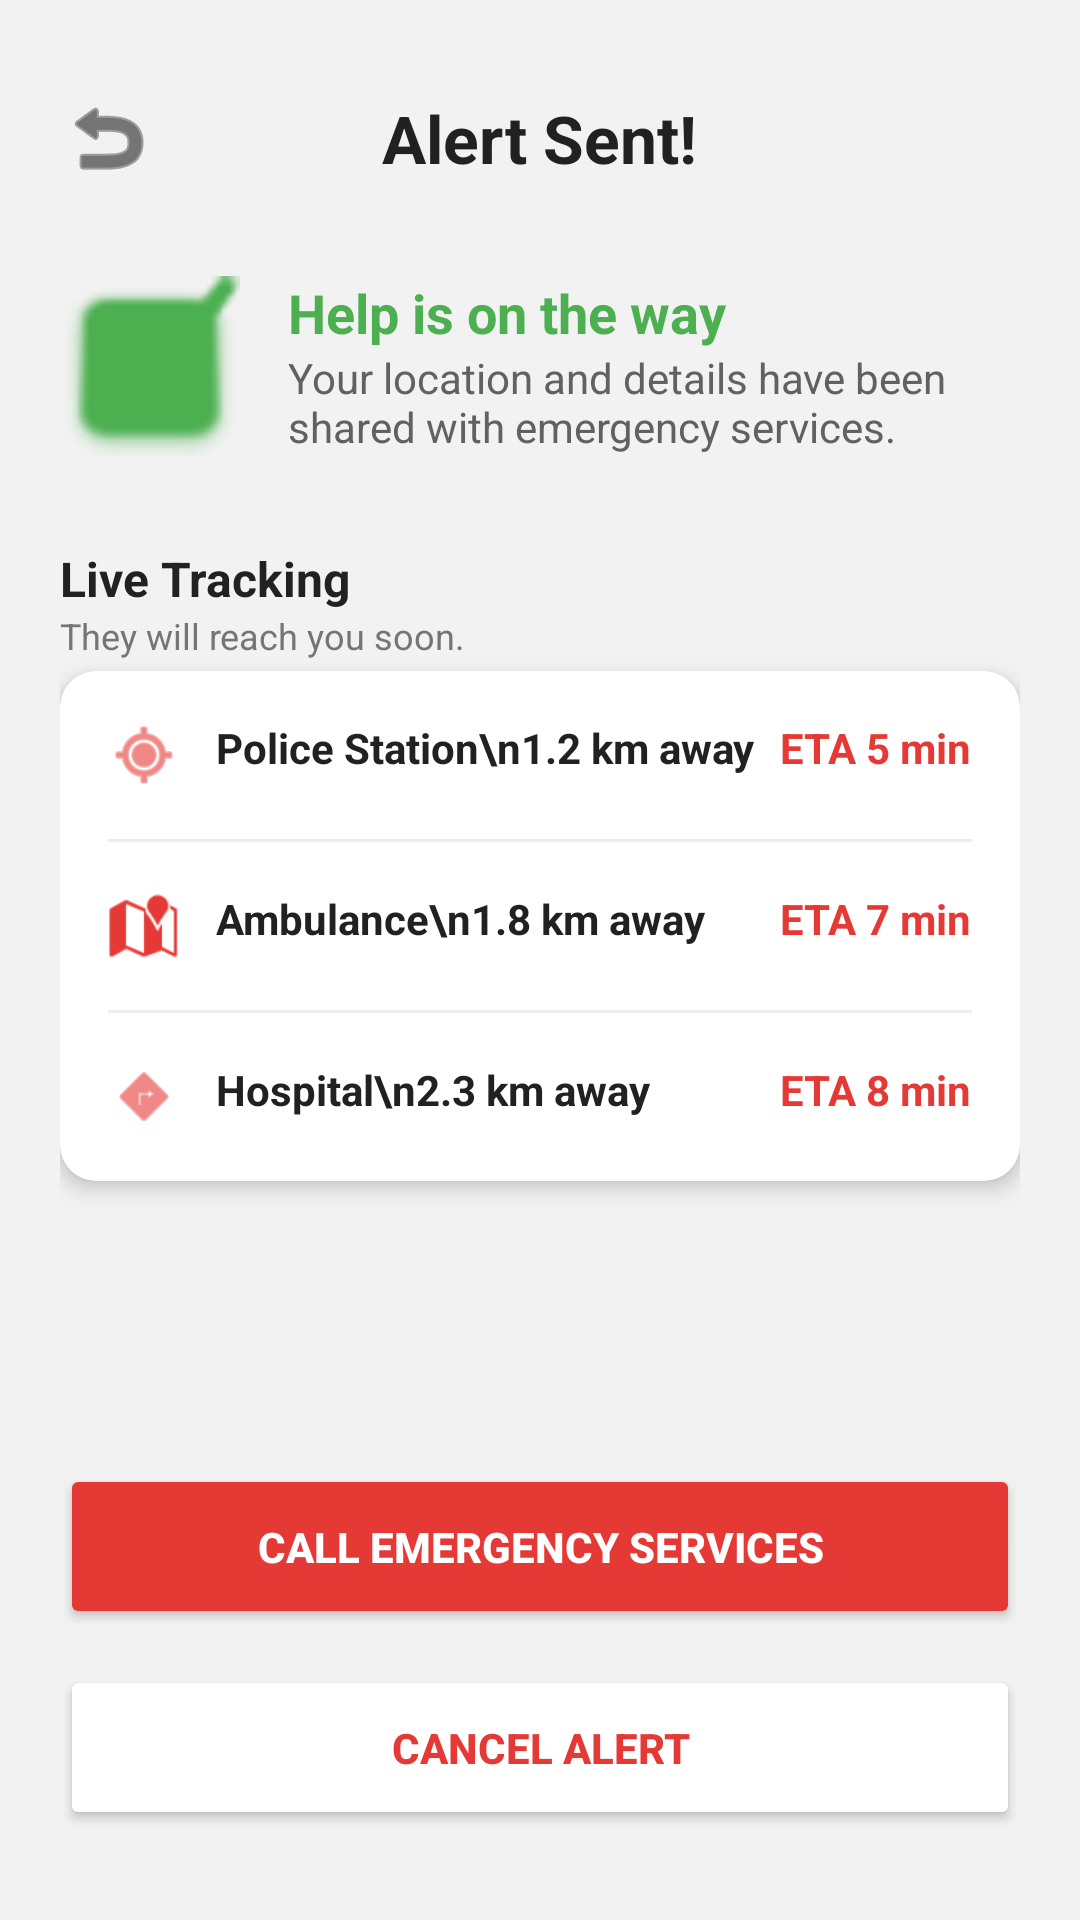

Where icons sit on this 1080*1920 app screen, as {"x1": x1, "y1": y1, "x2": x2, "y2": y2}:
directions: {"x1": 119, "y1": 1072, "x2": 169, "y2": 1121}
map: {"x1": 109, "y1": 894, "x2": 178, "y2": 958}
mylocation: {"x1": 115, "y1": 726, "x2": 173, "y2": 784}
revert: {"x1": 75, "y1": 107, "x2": 144, "y2": 170}
